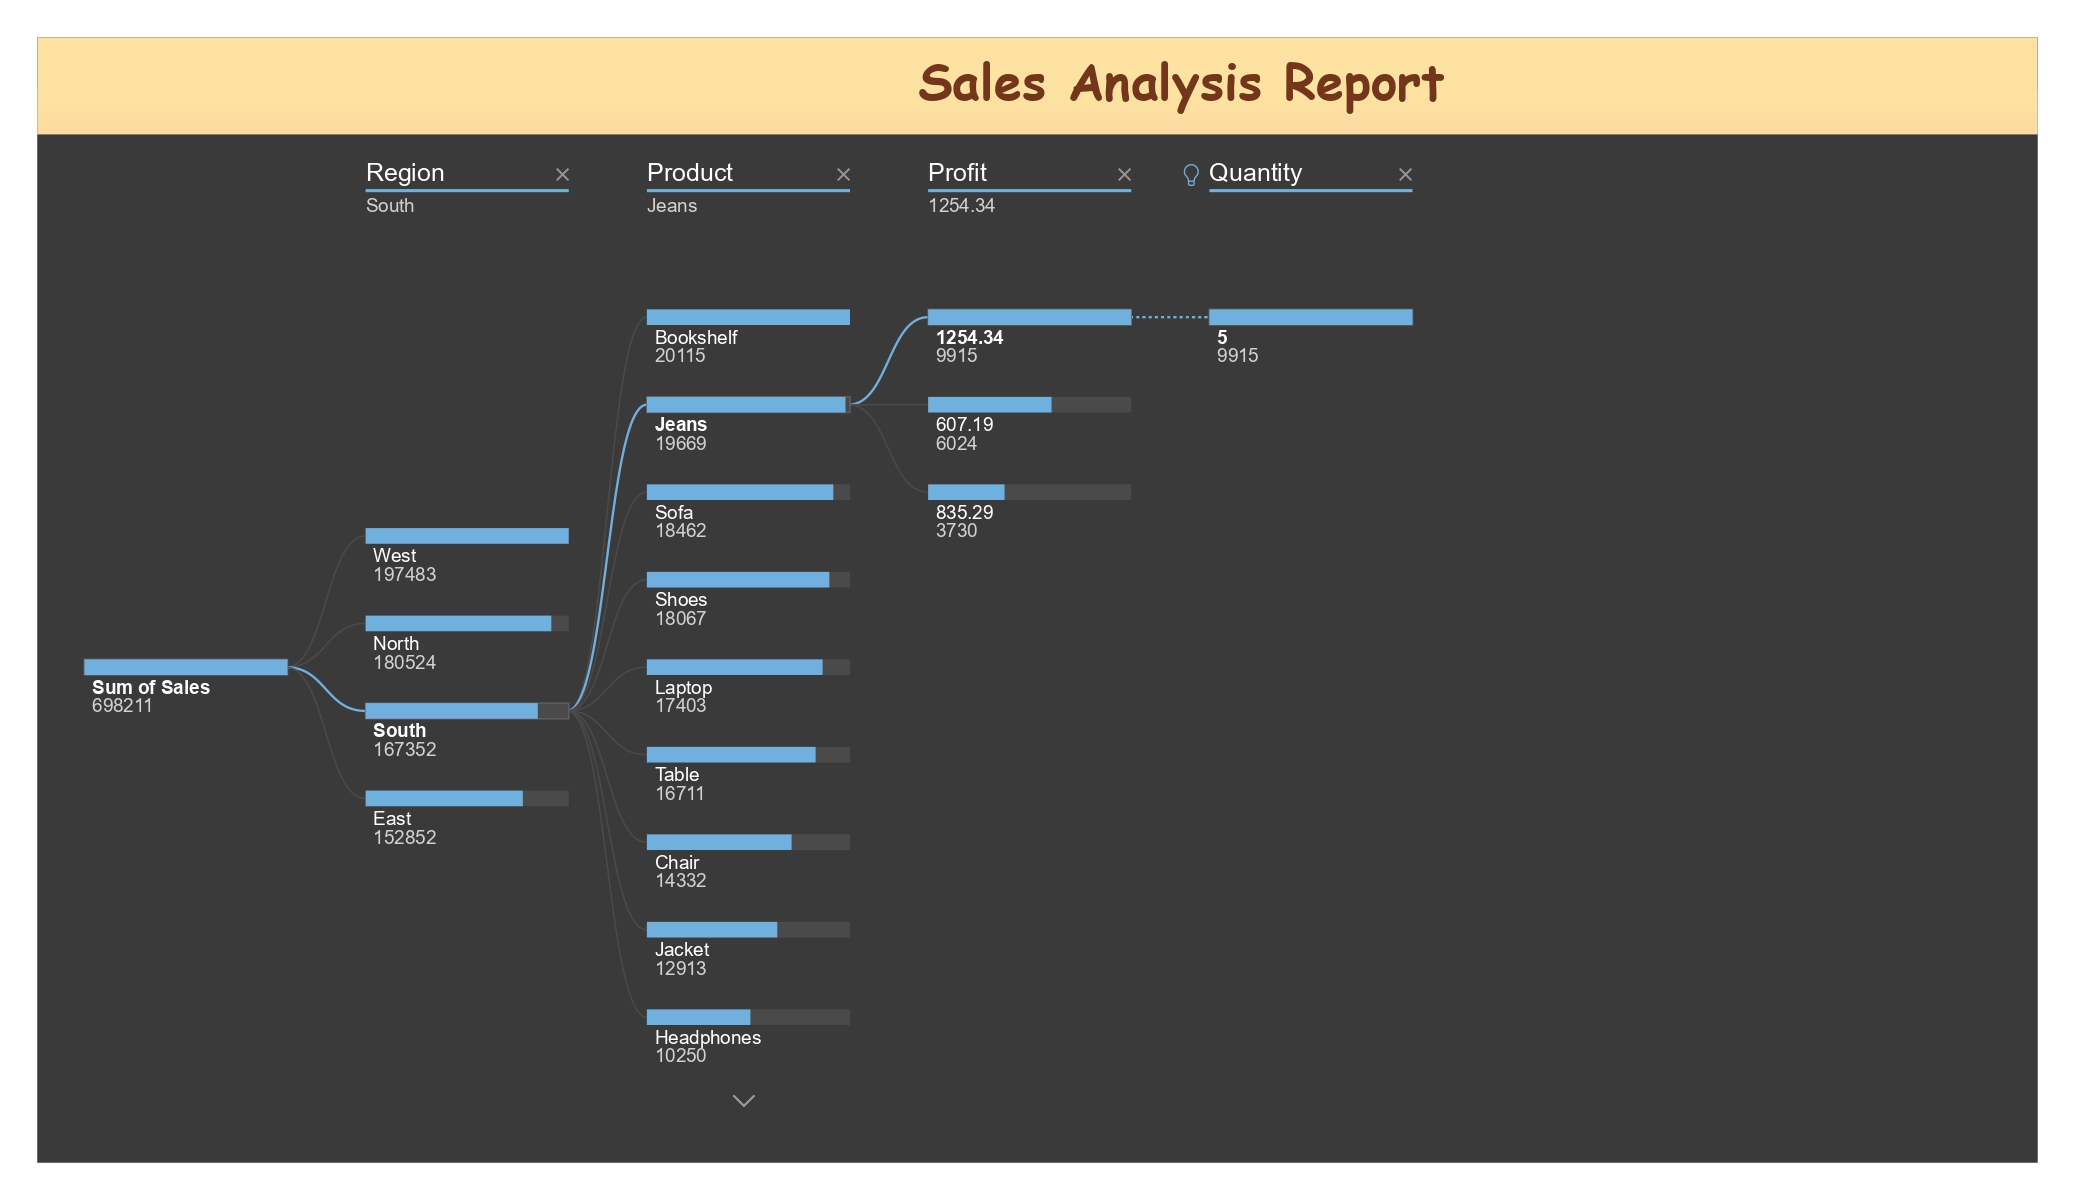

The dashboard page shown, as its layout file describes it:
{"tool":"powerbi","page":{"name":"Page 2","canvas":[1280,720],"ordinal":1},"visuals":[{"type":"decompositionTreeVisual","fields":{"Analyze":["Sum(Sheet1.Sales)"],"ExplainBy":["Sheet1.Region","Sheet1.Product","Sheet1.Profit","Sheet1.Quantity"]},"box":[0,62.2,1280,657.8],"z":0},{"type":"textbox","box":[0,0,1464.5,62.1],"z":1000}]}

Visuals, with their boxes in screenshot pixels (x1, y1, x2, y2):
decompositionTreeVisual - Sum(Sheet1.Sales) x Sheet1.Region: bbox=(38, 135, 2038, 1162)
textbox: bbox=(38, 38, 2038, 135)
